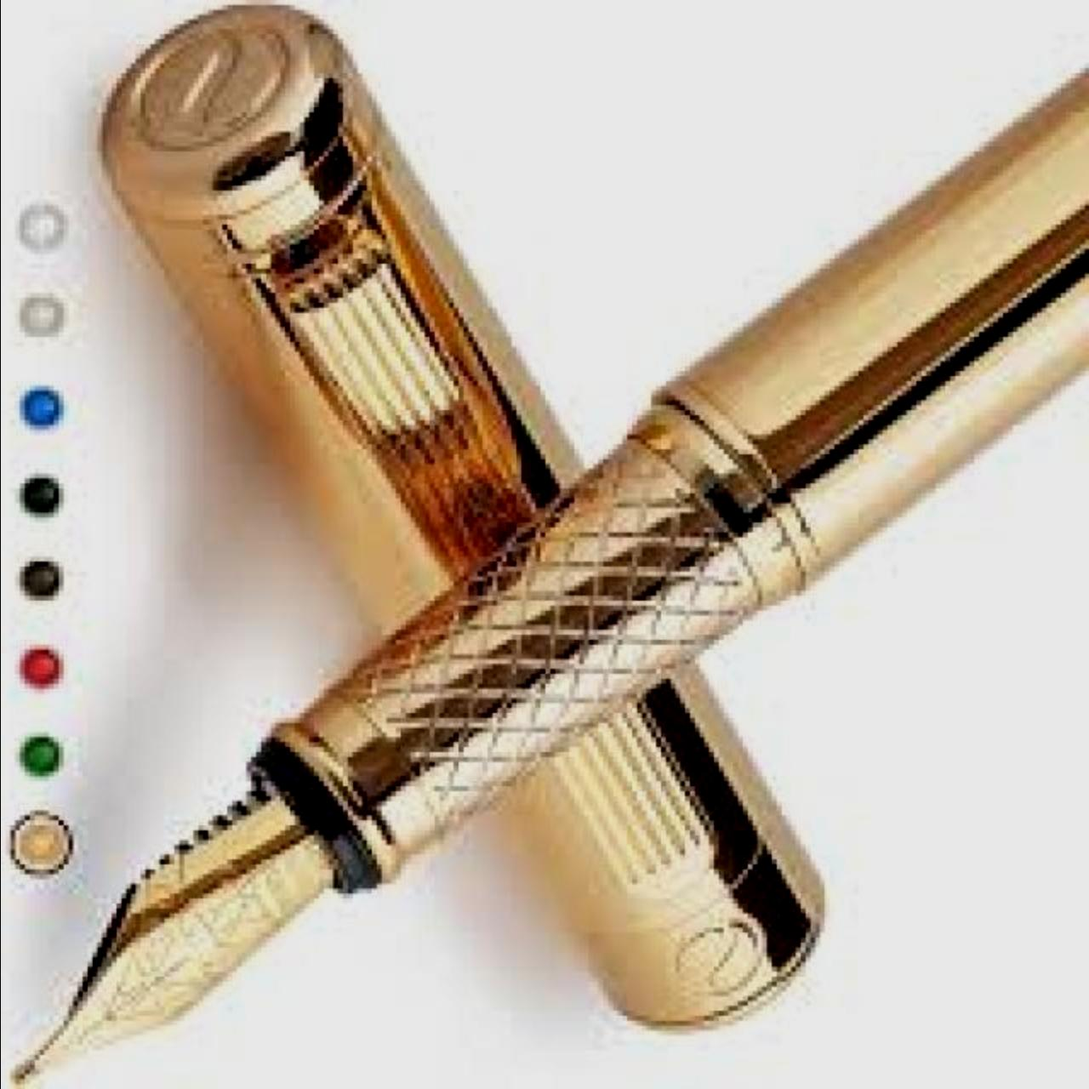pen: (10, 65, 1089, 1089)
